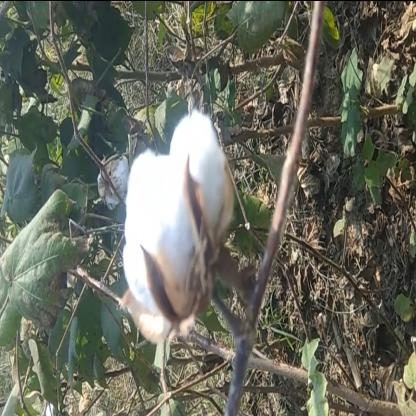cotton_ready: (107, 136, 280, 340)
